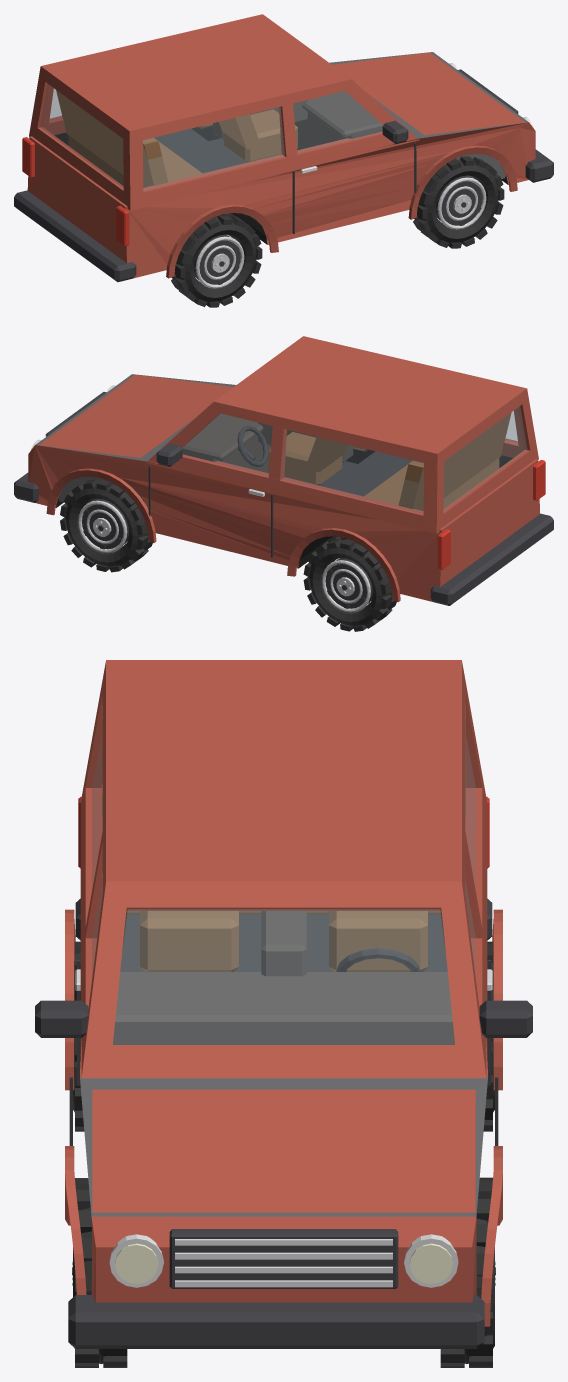
File: shiva.glb
3 views of the same model, one above another, from view 1: azimuth 30°, elevation 25°; view 2: azimuth 150°, elevation 25°; view 3: azimuth 270°, elevation 25° (orthographic). The views are drawn at different scales.
Parts seen in each view (by area): view 1: Body, Glass, Dark, Hood, Tire, Seat, Dash, Rim, Bay, Tail, Well; view 2: Body, Glass, Dark, Hood, Tire, Seat, Dash, Rim, Bay, Tail, Well; view 3: Body, Hood, Glass, Dark, Dash, Seat, Chrome, Bay, Tire, Headlight.
Boxes of the visible parts, left/top/right/bottom form: Body: left=27, top=14, right=535, bottom=278; Glass: left=40, top=84, right=382, bottom=190; Dark: left=14, top=69, right=553, bottom=284; Hood: left=332, top=52, right=525, bottom=135; Tire: left=171, top=156, right=504, bottom=307; Seat: left=56, top=90, right=297, bottom=187; Dash: left=213, top=91, right=383, bottom=150; Rim: left=195, top=177, right=486, bottom=288; Bay: left=329, top=52, right=528, bottom=179; Tail: left=22, top=137, right=129, bottom=246; Well: left=54, top=126, right=508, bottom=244; Body: left=28, top=336, right=539, bottom=602; Glass: left=182, top=406, right=526, bottom=513; Dark: left=14, top=392, right=553, bottom=608; Hood: left=39, top=374, right=233, bottom=457; Tire: left=60, top=479, right=396, bottom=631; Seat: left=268, top=412, right=511, bottom=510; Dash: left=182, top=413, right=353, bottom=473; Rim: left=78, top=500, right=370, bottom=612; Bay: left=35, top=374, right=235, bottom=509; Tail: left=437, top=460, right=545, bottom=569; Well: left=56, top=448, right=512, bottom=567; Body: left=65, top=660, right=502, bottom=1326; Hood: left=92, top=1089, right=475, bottom=1212; Glass: left=92, top=737, right=475, bottom=1044; Dark: left=35, top=898, right=532, bottom=1348; Dash: left=113, top=911, right=454, bottom=1044; Seat: left=102, top=705, right=465, bottom=971; Chrome: left=72, top=969, right=495, bottom=1287; Bay: left=80, top=1076, right=487, bottom=1216; Tire: left=73, top=941, right=494, bottom=1367; Headlight: left=115, top=1243, right=452, bottom=1283.
Size of the model in its own units: 3.98 by 1.65 by 1.96.
